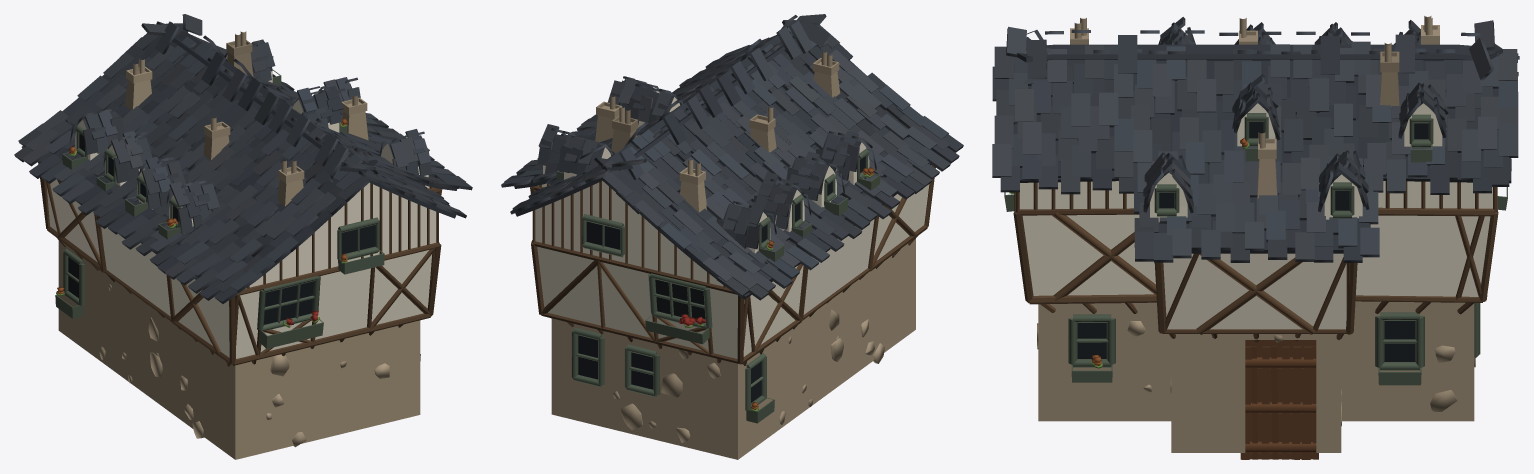
Rendered from house_00.glb.
3 renders of one model, left to right at view 1: azimuth 30°, elevation 25°; view 2: azimuth 150°, elevation 25°; view 3: azimuth 270°, elevation 25°, orthographic. The views are drawn at different scales.
Visible parts, largest first — view 1: house_00; view 2: house_00; view 3: house_00.
Part boxes in pixels (x1,y1,x2,y2): house_00: [14, 14, 472, 459]; house_00: [501, 14, 963, 459]; house_00: [992, 16, 1519, 459].
Size of the model in its own units: 7.68 by 6.87 by 8.92.
